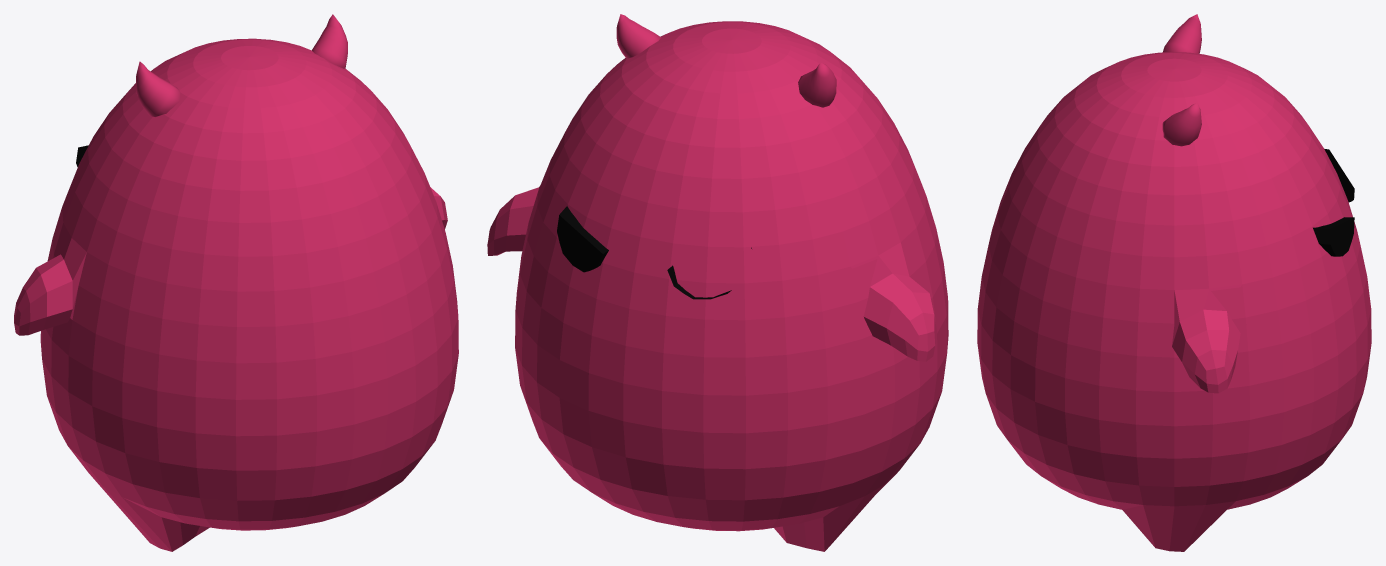
The model's file is enemy.fbx.
The picture shows the model from 3 angles, left to right: view 1: azimuth 30°, elevation 25°; view 2: azimuth 150°, elevation 25°; view 3: azimuth 270°, elevation 25°; orthographic projection. The views are drawn at different scales.
Visible parts, largest first — view 1: Body, Horn.001, Horn; view 2: Body, Plane, Horn.001, Horn; view 3: Body, Plane, Horn, Horn.001.
Part boxes in pixels (left/top/right/bottom): Body: left=14, top=38, right=458, bottom=551; Horn.001: left=136, top=61, right=180, bottom=116; Horn: left=312, top=14, right=347, bottom=68; Body: left=487, top=21, right=948, bottom=551; Plane: left=557, top=206, right=751, bottom=299; Horn.001: left=798, top=63, right=836, bottom=107; Horn: left=616, top=14, right=661, bottom=58; Body: left=977, top=52, right=1371, bottom=551; Plane: left=1313, top=149, right=1354, bottom=256; Horn: left=1162, top=103, right=1201, bottom=146; Horn.001: left=1163, top=14, right=1201, bottom=53.
Bounding box in the file's own units: 242 × 259 × 205.
